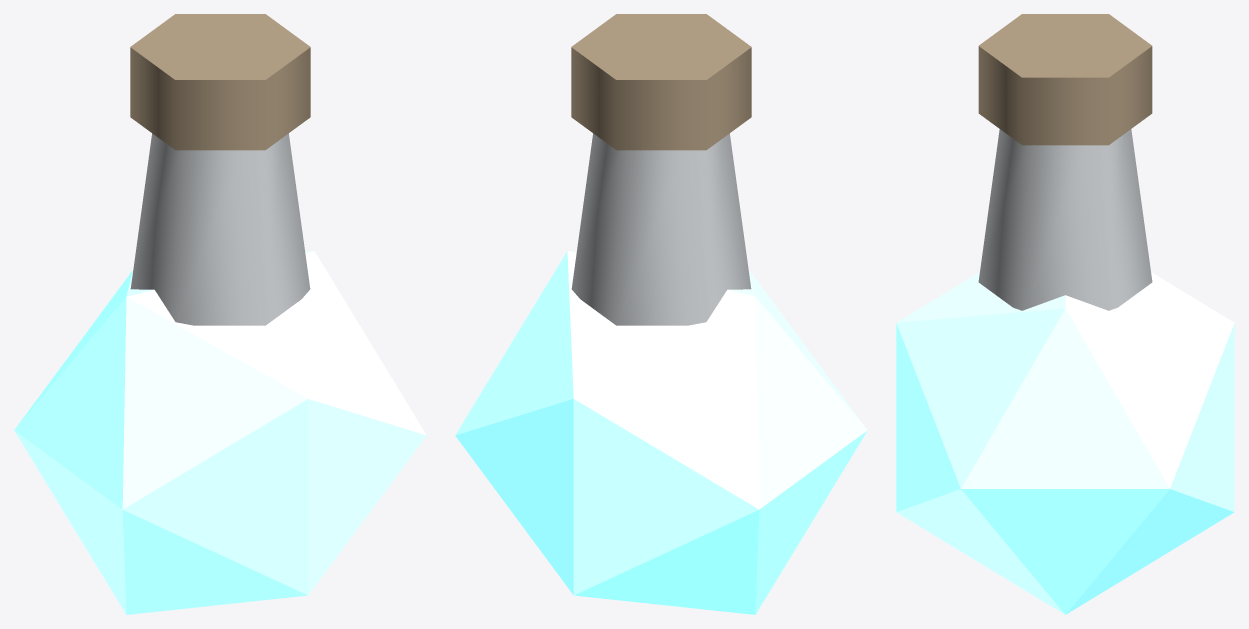
The model's file is potion.glb.
3 views of the same model, side by side, from view 1: azimuth 30°, elevation 25°; view 2: azimuth 150°, elevation 25°; view 3: azimuth 270°, elevation 25° (orthographic). The views are drawn at different scales.
Parts seen in each view (by area): view 1: potion; view 2: potion; view 3: potion.
Part boxes in pixels (x1=…): potion: x1=14, y1=14, x2=426, y2=614; potion: x1=455, y1=14, x2=867, y2=614; potion: x1=896, y1=14, x2=1234, y2=614.
Bounding box in the file's own units: 0.2722 × 0.4661 × 0.2722.
